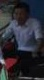boots: (0, 72, 18, 80), (0, 74, 11, 80)
hard-hat: (0, 0, 20, 20)
